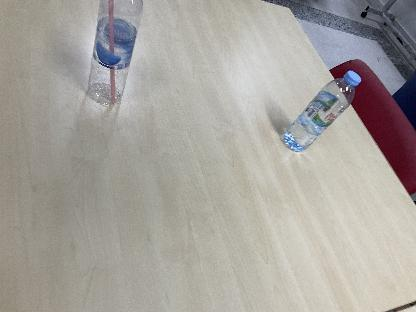Plastic Bottle: (281, 69, 363, 153), (87, 0, 143, 108)
